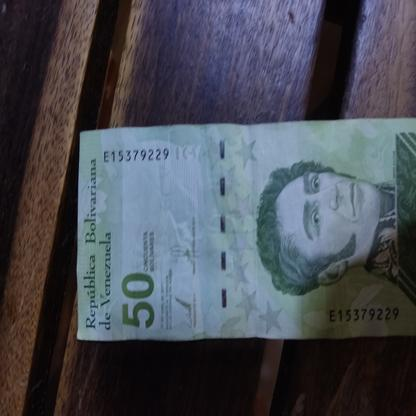vef_front: (76, 118, 416, 341)
